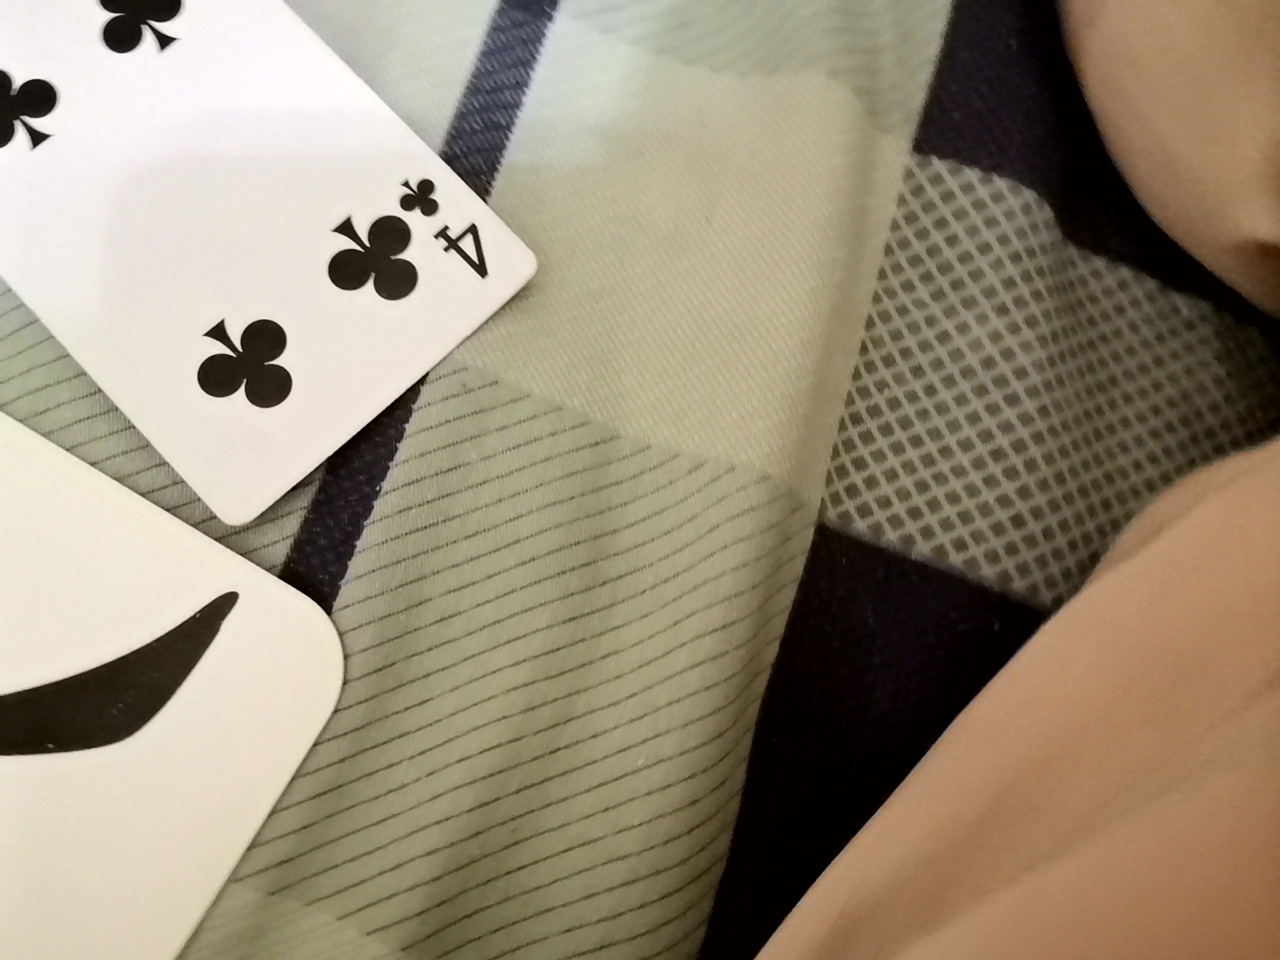mh 4: (6, 1, 524, 599)
